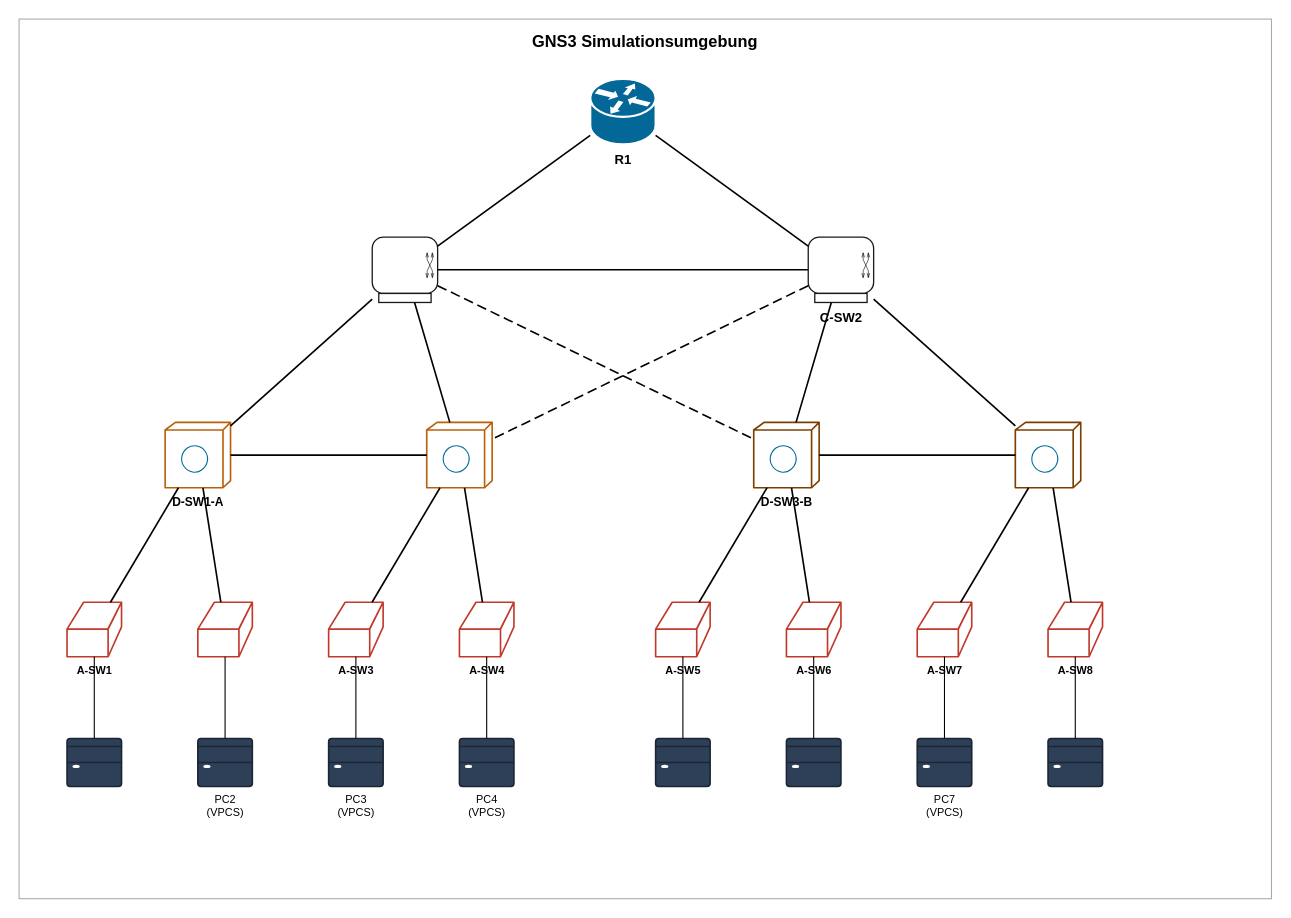
Image size: 1291x918. Some labels were removed from this diagram. Here are the shapes that lost their labels. From the top down, the centre of each, then its label:
pixel 404 269: C-SW1
pixel 458 454: D-SW2-A
pixel 1047 454: D-SW4-B
pixel 225 629: A-SW2
pixel 94 761: PC1 (VPCS)
pixel 682 761: PC5 (VPCS)
pixel 813 761: PC6 (VPCS)
pixel 1075 761: PC8 (VPCS)
